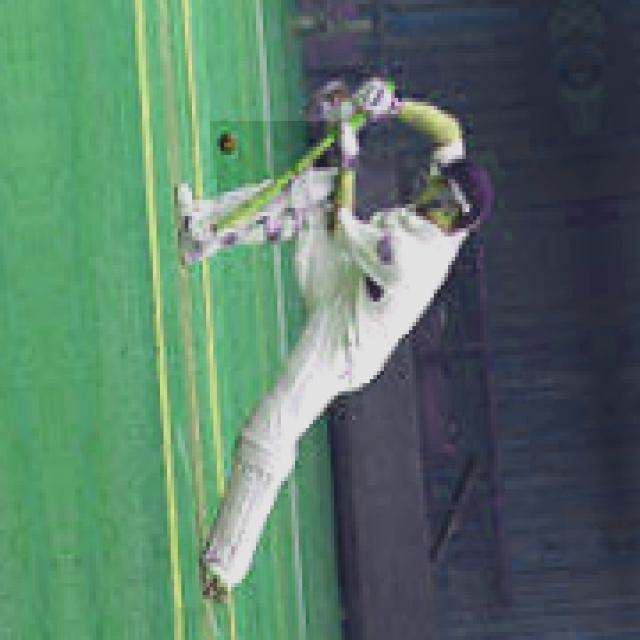bat: (210, 123, 343, 228)
